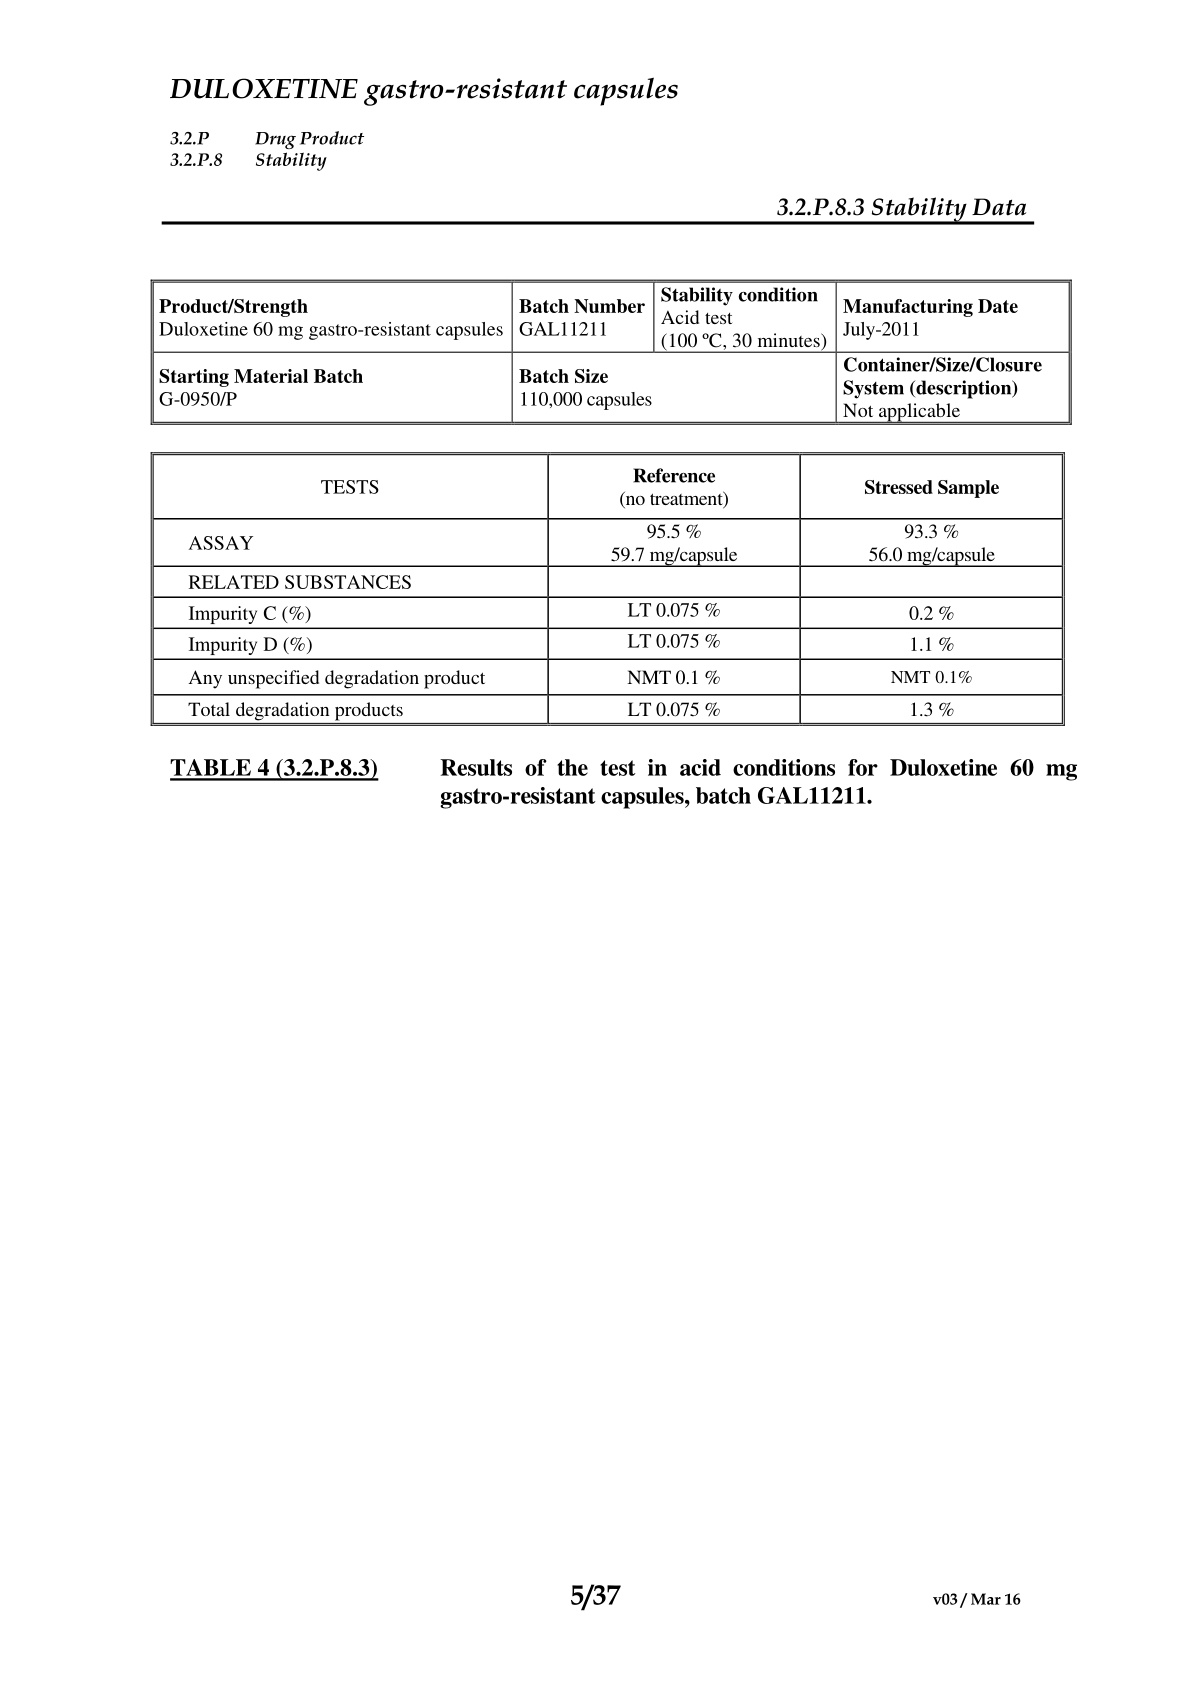full_lined: (150, 451, 1063, 725)
merged_cells: (150, 280, 1072, 425)
